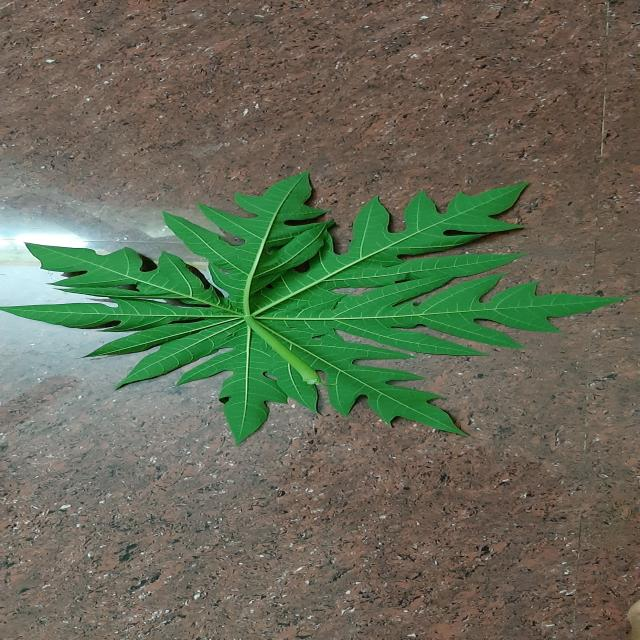papaya: (3, 174, 623, 441)
